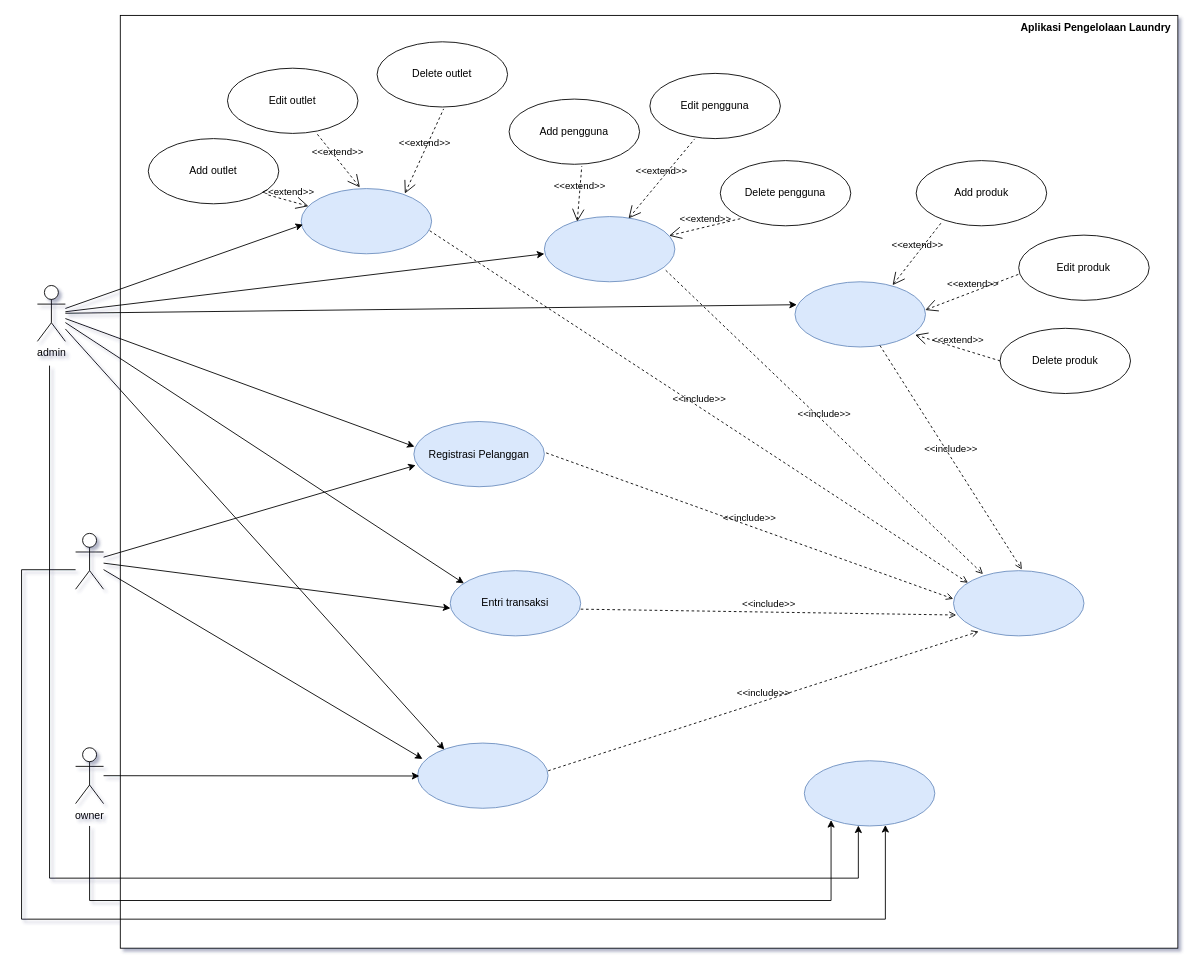
Some shapes in this 1199 by 969 pixel diagram are drawn without their labels. The centre of each missing label's shape, as x and y in pixels:
CRUD outlet: (x=366, y=221)
CRUD pengguna: (x=609, y=249)
CRUD produk / paket cucian: (x=859, y=314)
Generate Laporan: (x=482, y=775)
kasir: (x=89, y=560)
Login: (x=1018, y=603)
Logout: (x=869, y=793)
